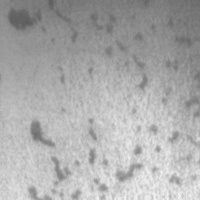patches: (3, 5, 36, 32)
pitted_surface: (18, 20, 196, 200)
